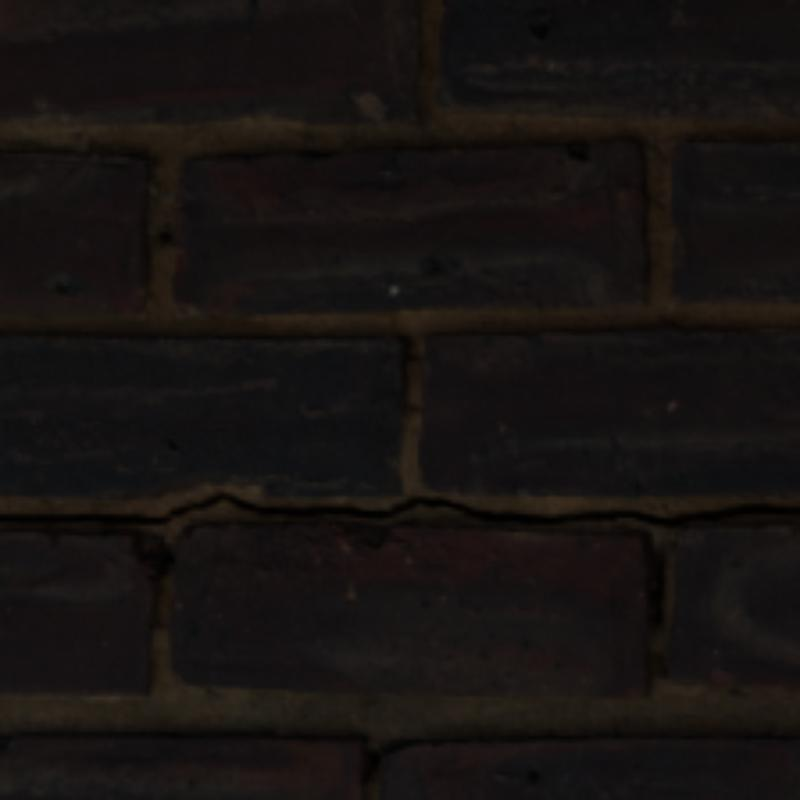pothole: (0, 493, 796, 525)
